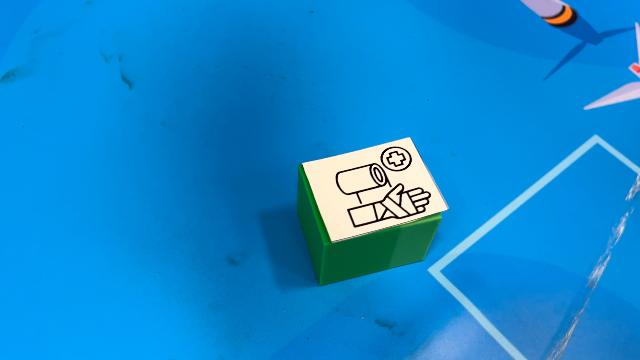bandage: (296, 134, 448, 286)
